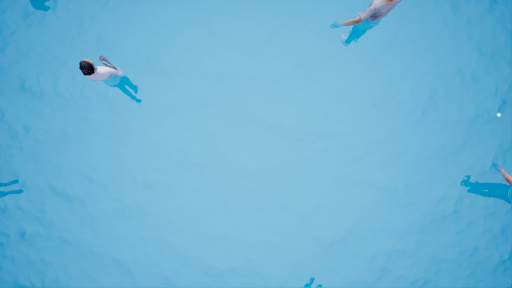person: (76, 50, 145, 105), (327, 1, 395, 49)
